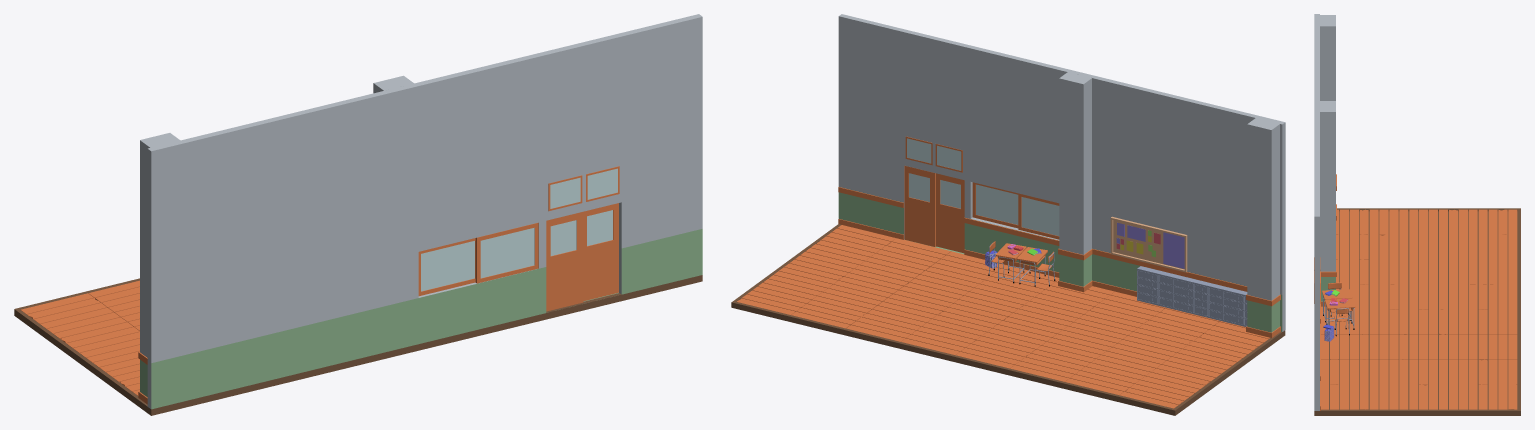
Rendered from Corredor_2_Teste_Basic_Colors.fbx.
3 views of the same model, side by side, from view 1: azimuth 30°, elevation 25°; view 2: azimuth 150°, elevation 25°; view 3: azimuth 270°, elevation 25° (orthographic). The views are drawn at different scales.
Visible parts, largest first — view 1: Paredes.002, Chão.003, Chão.002, Portas.002, Portas.003, Paredes.003, Coluna 1.002, Paredes.004, Paredes.005; view 2: Paredes.002, Chão.003, Coluna 1.002, Chão.002, Armarios.002, Portas.003, Plane.015, Portas.002, Infos.002, Paredes.003, Paredes.004, Papel.003 (+4 smaller); view 3: Chão.003, Chão.002, Coluna 1.002, Paredes.002, Cadeira.017, Cadeira.018, Plane.015.
Part boxes in pixels (x1,y1,x2,y2): Paredes.002: (147,14,702,409); Chão.003: (20,280,139,395); Chão.002: (14,275,702,415); Portas.002: (546,212,583,311); Portas.003: (583,203,618,301); Paredes.003: (475,222,538,283); Coluna 1.002: (140,75,413,397); Paredes.004: (418,238,475,296); Paredes.005: (548,166,619,211); Paredes.002: (838,14,1285,331); Chão.003: (737,225,1269,408); Coluna 1.002: (1059,72,1279,332); Chão.002: (731,224,1285,415); Armarios.002: (1137,266,1247,326); Portas.003: (904,165,935,246); Plane.015: (838,187,1280,306); Portas.002: (936,173,964,253); Infos.002: (1110,216,1187,272); Paredes.003: (972,182,1018,228); Paredes.004: (1018,193,1059,239); Papel.003: (1116,222,1184,268); Chão.003: (1321,209,1517,409); Chão.002: (1314,208,1520,415); Coluna 1.002: (1320,15,1335,301); Paredes.002: (1314,14,1319,410); Cadeira.017: (1325,298,1355,336); Cadeira.018: (1322,282,1352,322); Plane.015: (1320,174,1336,380).
Size of the model in its own units: 4159 by 1908 by 1793.
